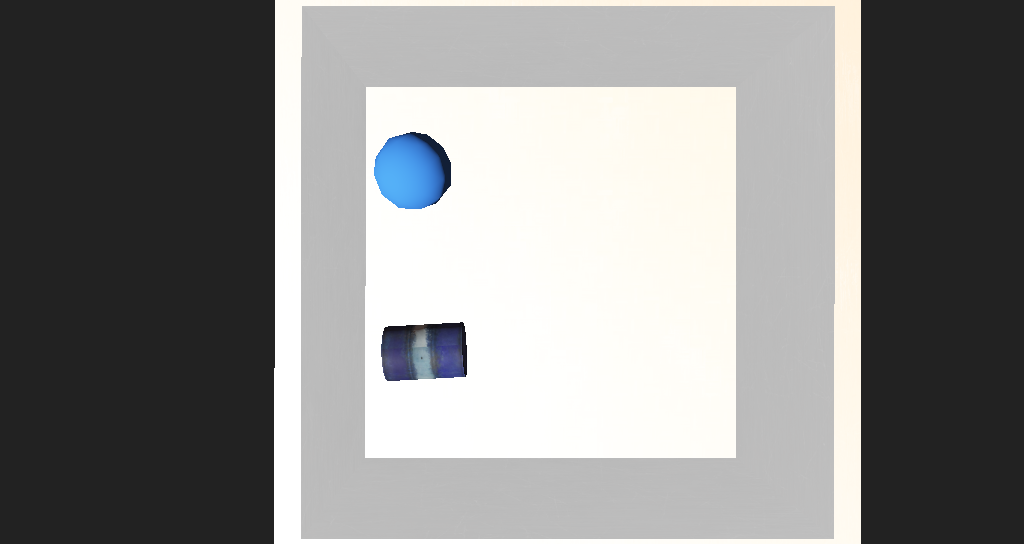cone: (367, 296, 441, 334)
cylinder: (613, 403, 734, 523)
sphere: (367, 186, 428, 234)
